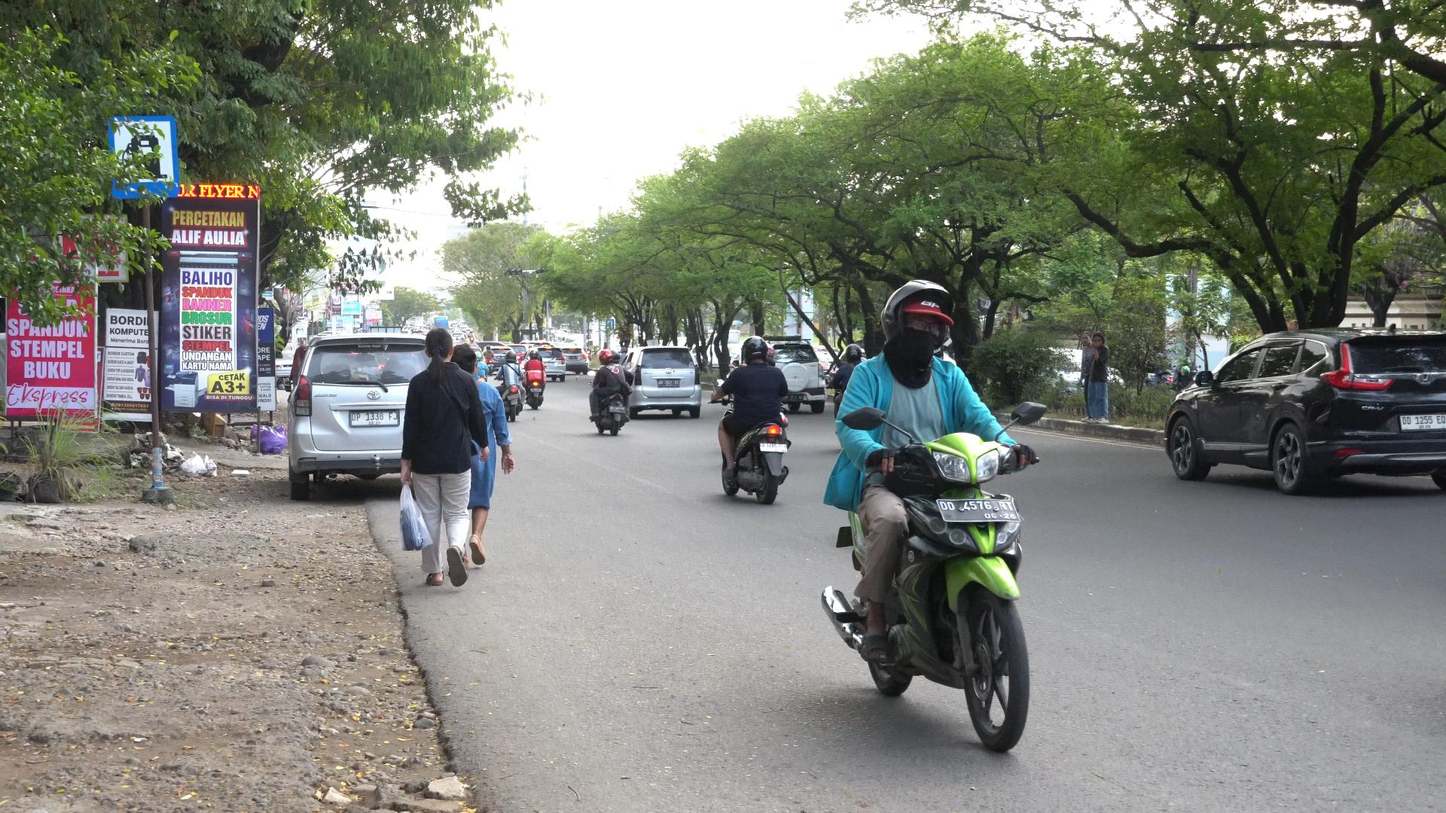number-plate: (941, 493, 1021, 526)
